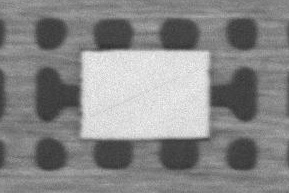DIE_CRACK: (126, 51, 268, 79)
